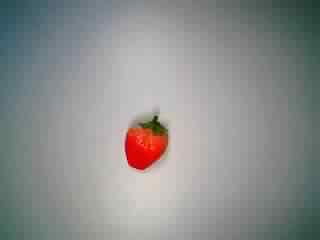strawberry: (106, 111, 174, 175)
